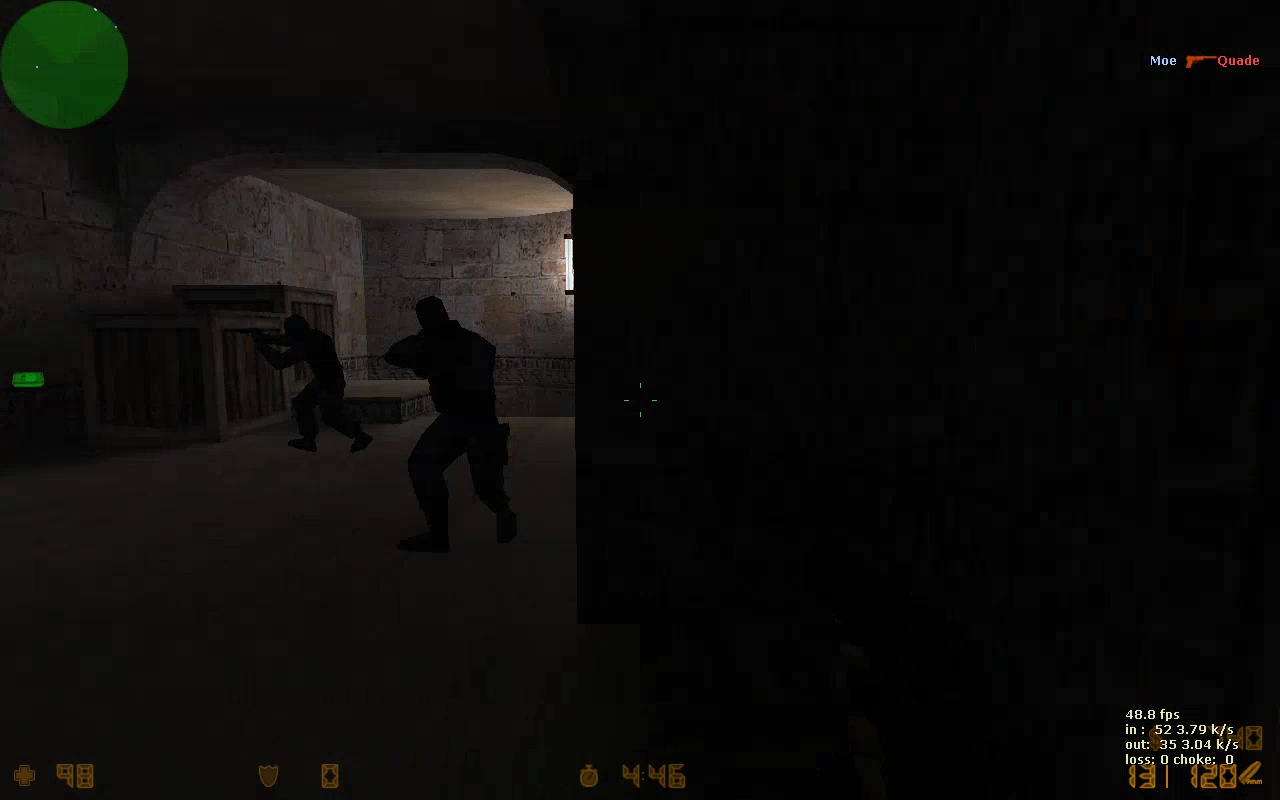ct: (383, 295, 513, 554), (253, 316, 369, 456)
